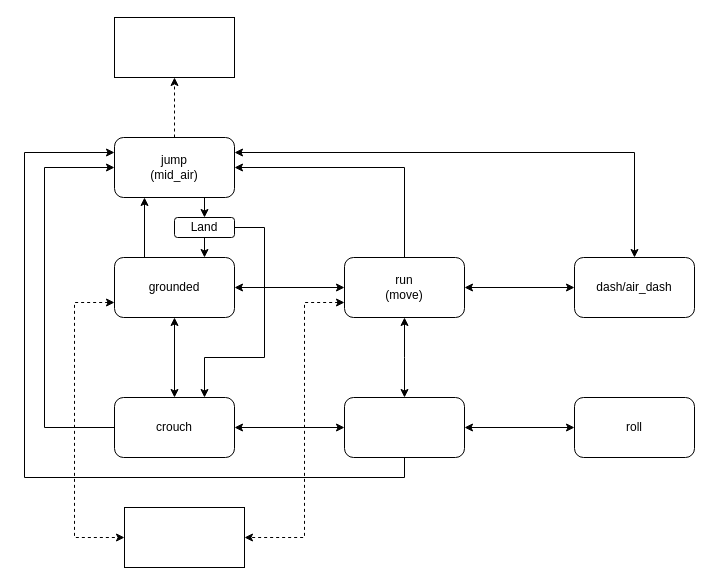
This 712x585 diagram has some shape labels left out. The centre of each missing label's shape, as x and y in pixels:
"crouch_walk" belongs at point 404,427.
"jump attack" belongs at point 174,47.
"sword attack" belongs at point 184,537.
